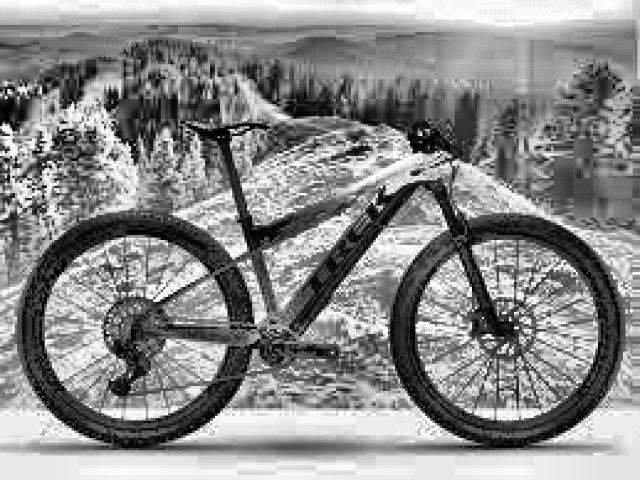cranks_set: (255, 325, 341, 370)
pedal: (320, 344, 342, 362)
rear_derailleur: (106, 340, 154, 398)
saddle: (181, 115, 272, 139)
wheel: (17, 206, 259, 448), (389, 212, 627, 450)
